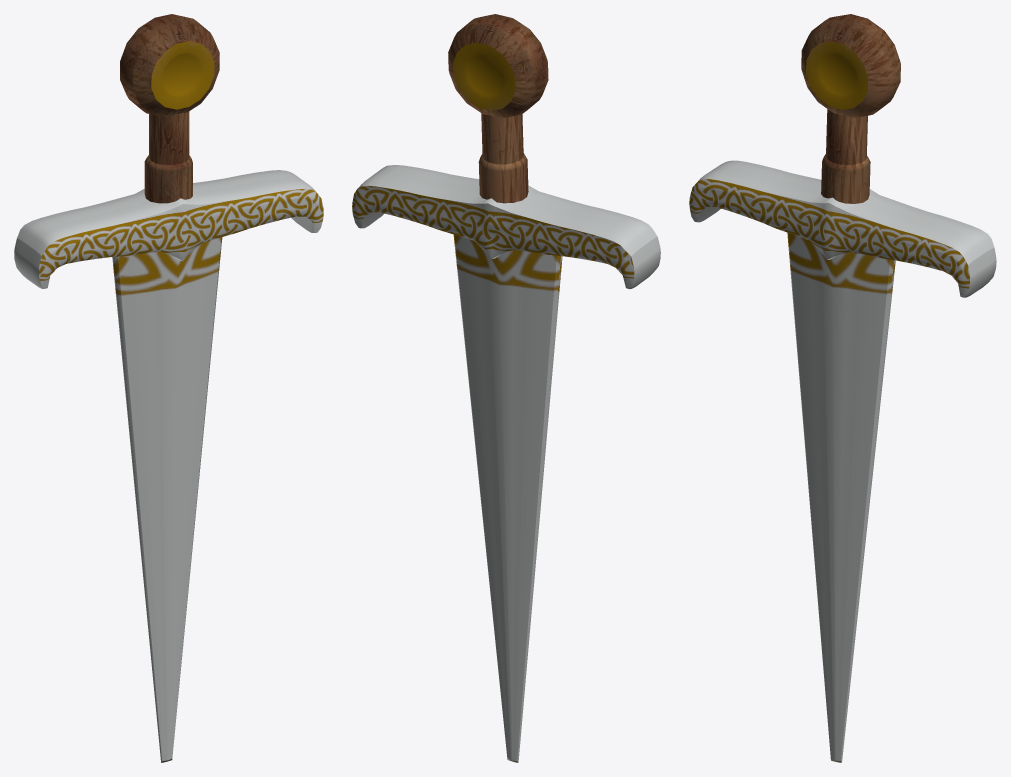
The model's file is sword4unity2.fbx.
The picture shows the model from 3 angles, left to right: view 1: azimuth 30°, elevation 25°; view 2: azimuth 150°, elevation 25°; view 3: azimuth 330°, elevation 25°; orthographic projection.
Visible parts, largest first — view 1: sword_blade, handle_hands, handle_circle, sword_handle; view 2: sword_blade, handle_hands, handle_circle, sword_handle; view 3: sword_blade, handle_hands, handle_circle, sword_handle.
Boxes of the visible parts, box(x1,y1,x2,y2) form: sword_blade: box(112, 237, 222, 762); handle_hands: box(14, 170, 323, 288); handle_circle: box(120, 14, 219, 116); sword_handle: box(144, 111, 192, 203); sword_blade: box(453, 234, 562, 762); handle_hands: box(352, 165, 660, 289); handle_circle: box(448, 14, 548, 117); sword_handle: box(478, 113, 528, 203); sword_blade: box(787, 232, 895, 762); handle_hands: box(689, 160, 996, 297); handle_circle: box(801, 14, 900, 117); sword_handle: box(821, 109, 870, 203).
Bounding box in the file's own units: 1.49 × 3.68 × 0.3118.
